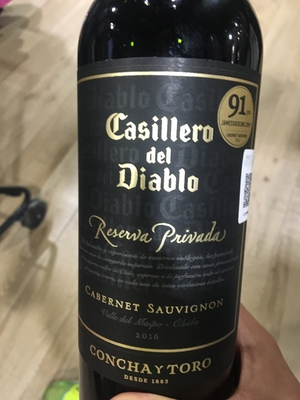casillero del diablo reserva privada cabernet sauvignon: (77, 1, 267, 399)
